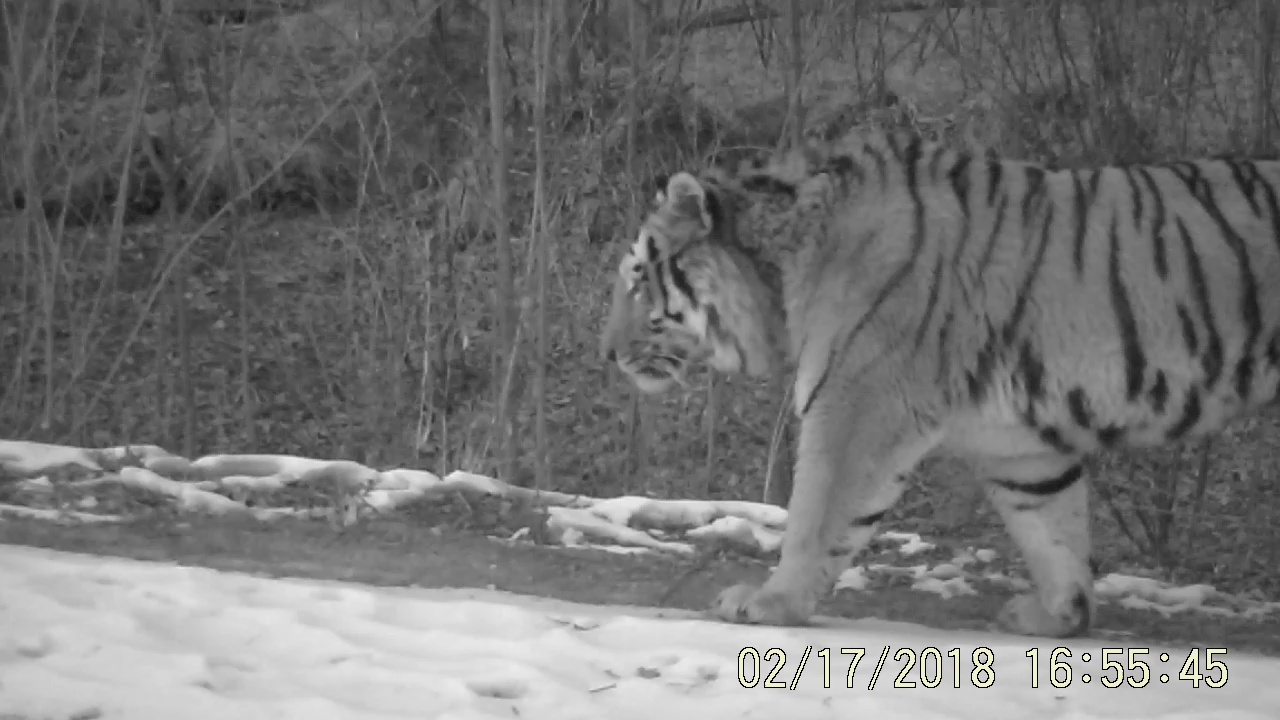Tiger: (582, 95, 1280, 639)
